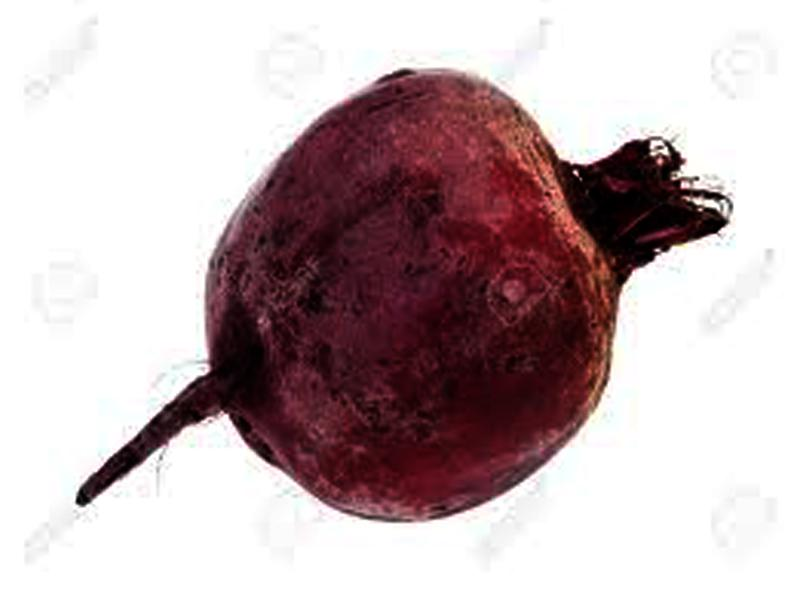Beet: (77, 72, 730, 522)
